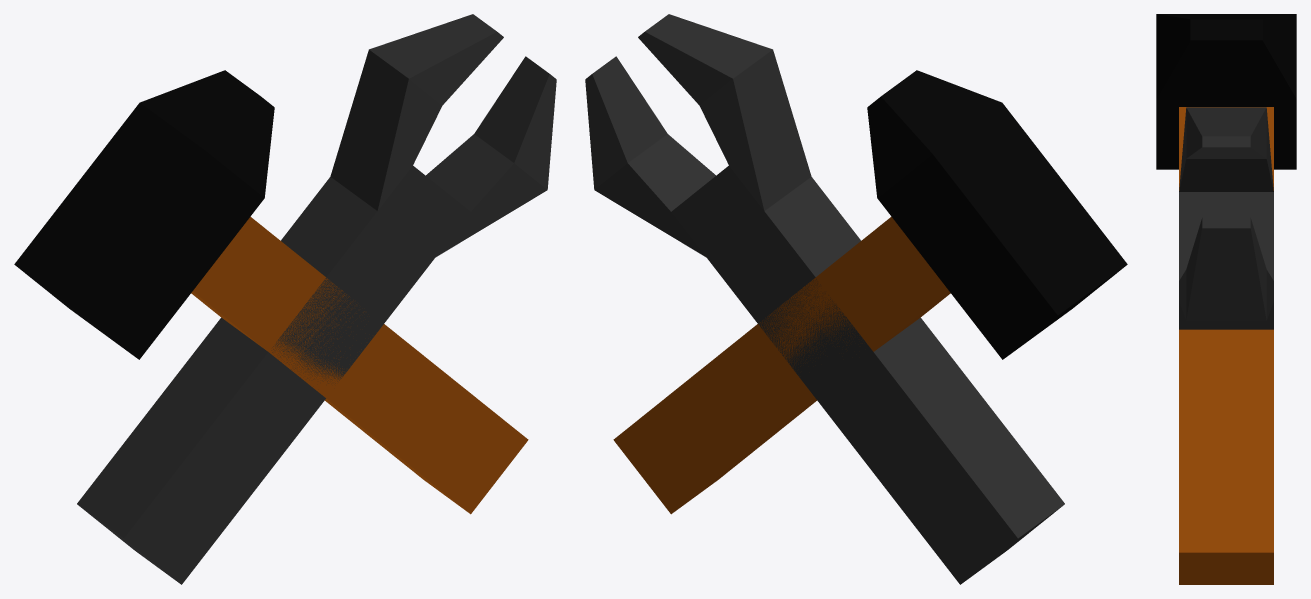
The model's file is objectItem2.fbx.
The picture shows the model from 3 angles, left to right: view 1: azimuth 30°, elevation 25°; view 2: azimuth 150°, elevation 25°; view 3: azimuth 270°, elevation 25°; orthographic projection.
Visible parts, largest first — view 1: Box002; view 2: Box002; view 3: Box002.
Boxes of the visible parts, x1,y1,x2,y2 form: Box002: (14,14,556,584); Box002: (585,14,1127,584); Box002: (1156,14,1296,584).
Bounding box in the file's own units: 30.3 × 27.17 × 7.4.
